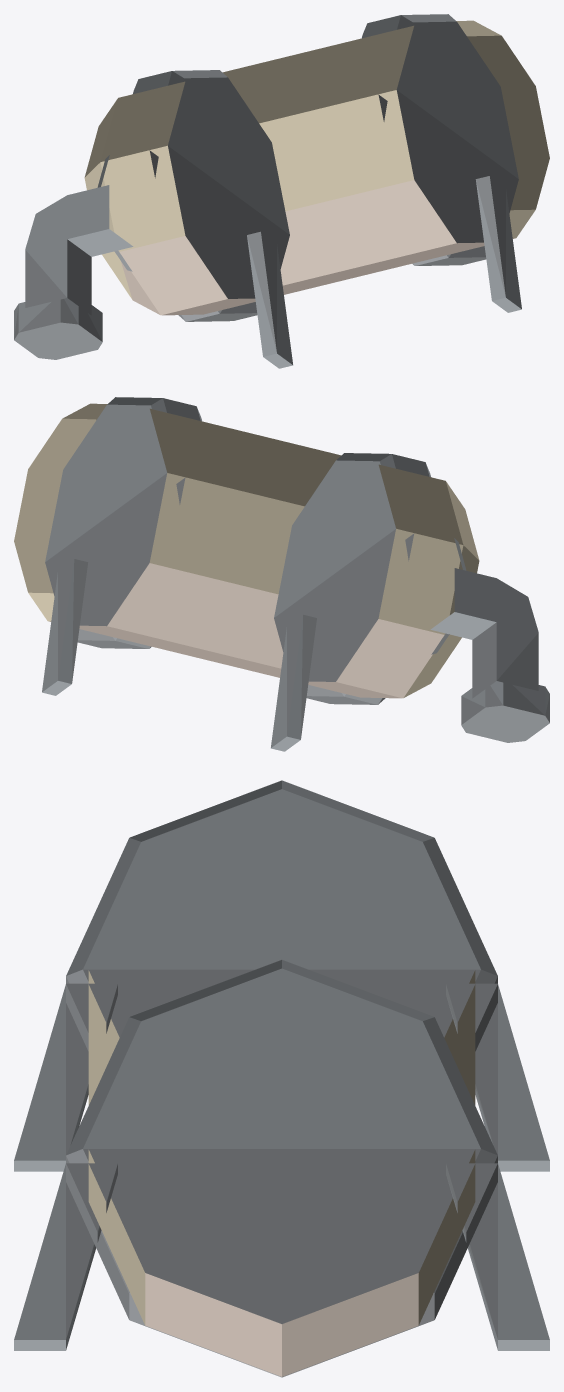
The model's file is detail-tank.glb.
The picture shows the model from 3 angles, top to bottom: view 1: azimuth 30°, elevation 25°; view 2: azimuth 150°, elevation 25°; view 3: azimuth 270°, elevation 25°; orthographic projection. The views are drawn at different scales.
Parts seen in each view (by area): view 1: detail-tank; view 2: detail-tank; view 3: detail-tank.
Part boxes in pixels (box(x1,y1,x2,y2)): detail-tank: box(14, 14, 549, 368); detail-tank: box(14, 397, 549, 751); detail-tank: box(14, 780, 549, 1377).
Bounding box in the file's own units: 6.36 × 3.11 × 3.86.
